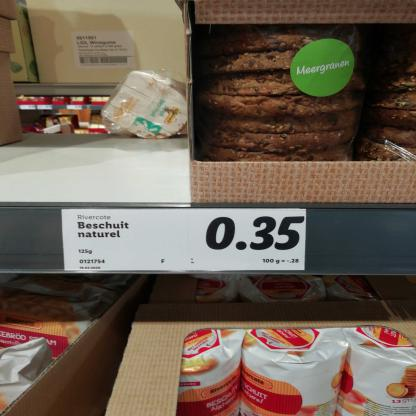prtg: (62, 210, 307, 273)
